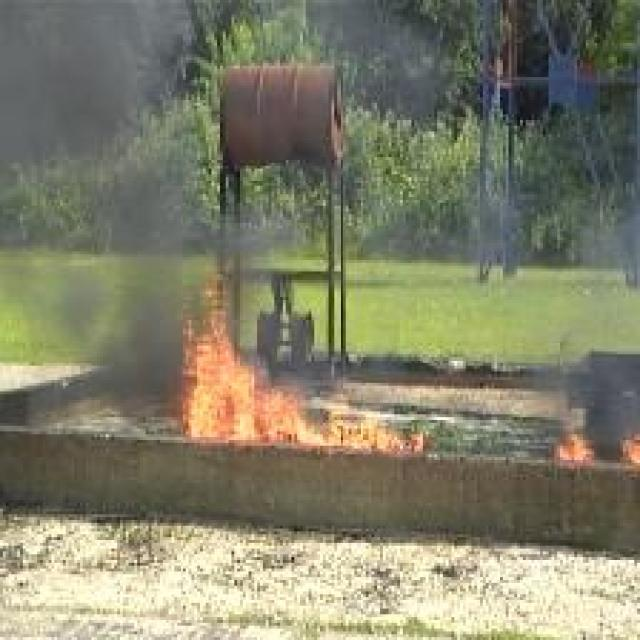Fire: (178, 270, 428, 453)
